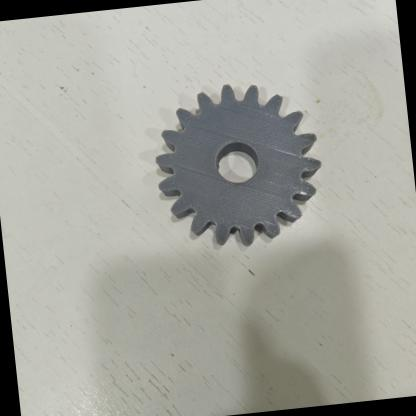gear: (119, 66, 353, 266)
